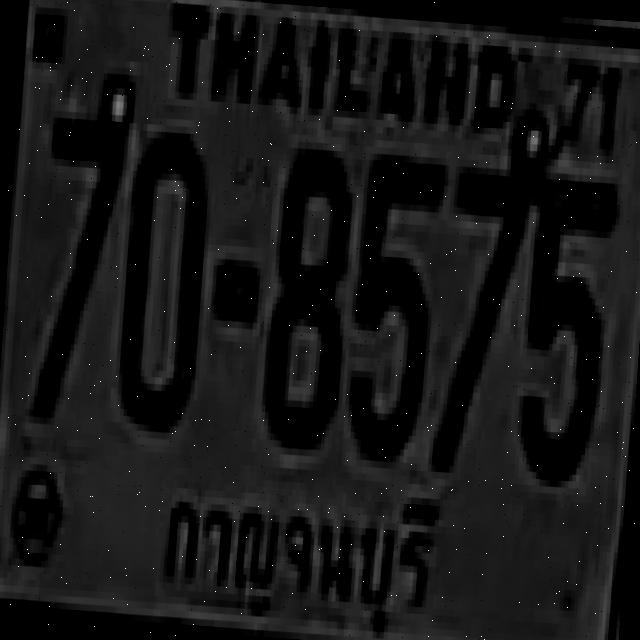0: (114, 123, 210, 427)
5: (514, 171, 618, 483), (342, 149, 442, 460)
7: (27, 90, 129, 422), (430, 158, 530, 470)
8: (259, 140, 352, 444)
Kanchanaburi: (149, 469, 439, 640)
